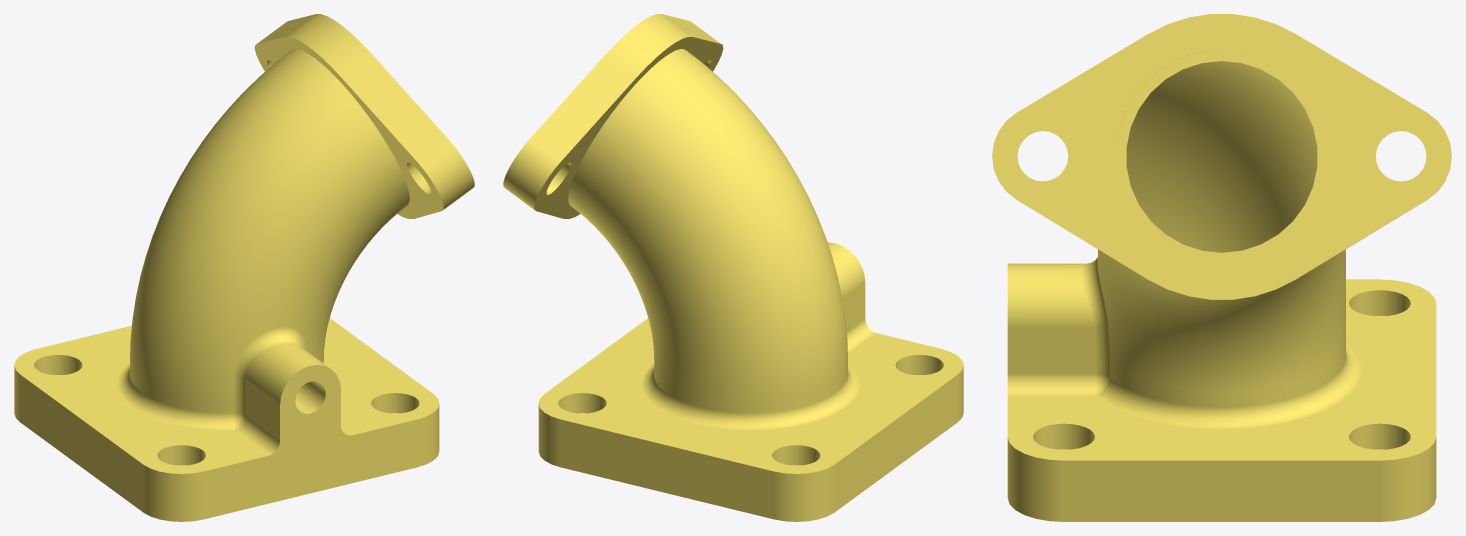
File: hw_day_3,_01.glb
The picture shows the model from 3 angles, left to right: view 1: azimuth 30°, elevation 25°; view 2: azimuth 150°, elevation 25°; view 3: azimuth 270°, elevation 25°; orthographic projection. The views are drawn at different scales.
Visible parts, largest first — view 1: hw day 3, 01; view 2: hw day 3, 01; view 3: hw day 3, 01.
Part boxes in pixels (x1,y1,x2,y2): hw day 3, 01: [14, 14, 474, 521]; hw day 3, 01: [503, 14, 963, 521]; hw day 3, 01: [992, 14, 1451, 521].
Bounding box in the file's own units: 0.0445 × 0.0477 × 0.0408.
